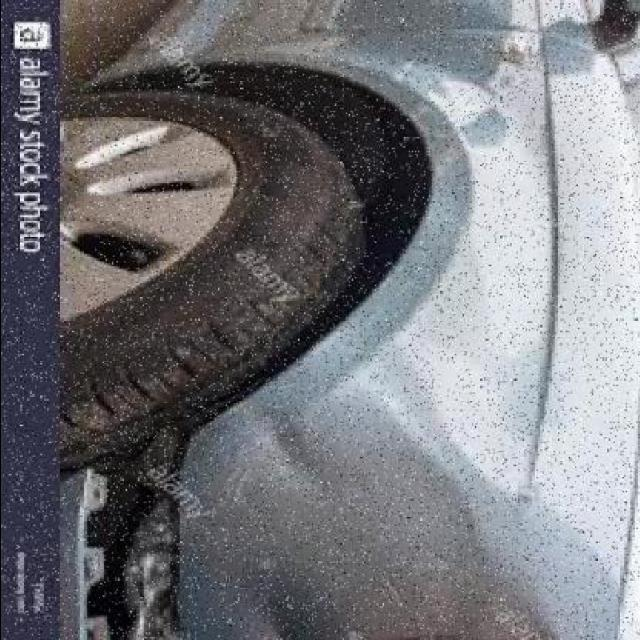fender-dent: (179, 34, 617, 638)
